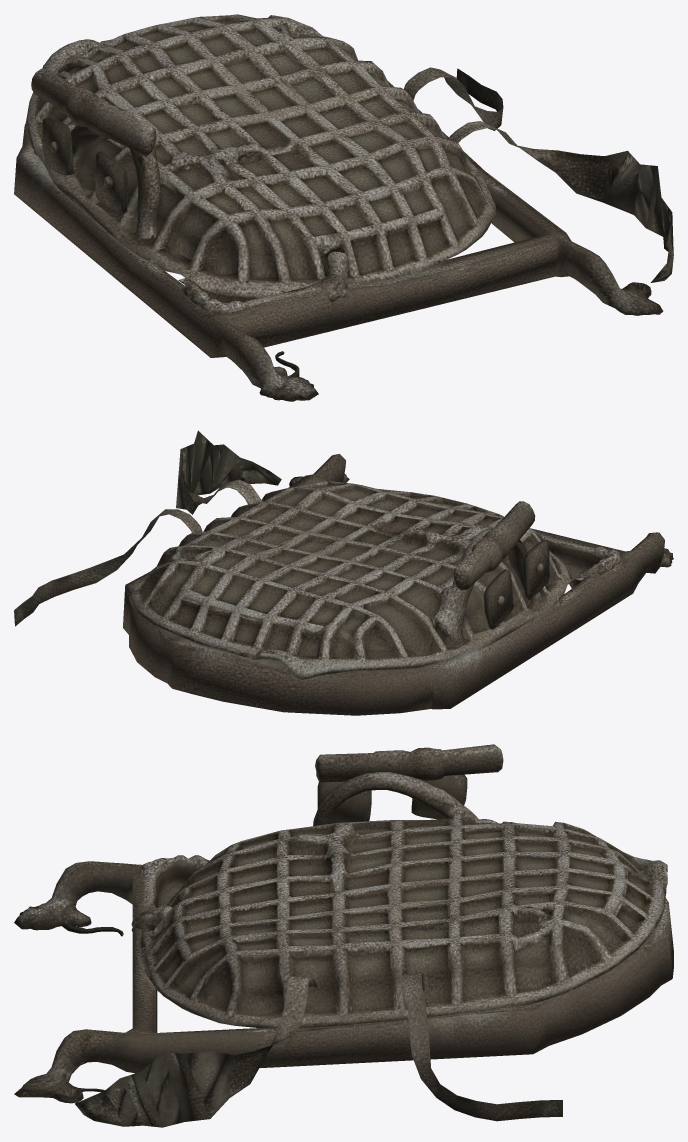
Rendered from second-rusty-metal-grate.glb.
The picture shows the model from 3 angles, top to bottom: view 1: azimuth 30°, elevation 25°; view 2: azimuth 150°, elevation 25°; view 3: azimuth 270°, elevation 25°; orthographic projection. The views are drawn at different scales.
Parts seen in each view (by area): view 1: second-rusty-metal-grate; view 2: second-rusty-metal-grate; view 3: second-rusty-metal-grate.
Part boxes in pixels (left/top/right/bottom): second-rusty-metal-grate: left=14, top=14, right=673, bottom=401; second-rusty-metal-grate: left=14, top=430, right=673, bottom=715; second-rusty-metal-grate: left=14, top=744, right=673, bottom=1127.
Size of the model in its own units: 0.8301 by 0.2754 by 0.998.
Materials: 1 (1 with a texture image).
